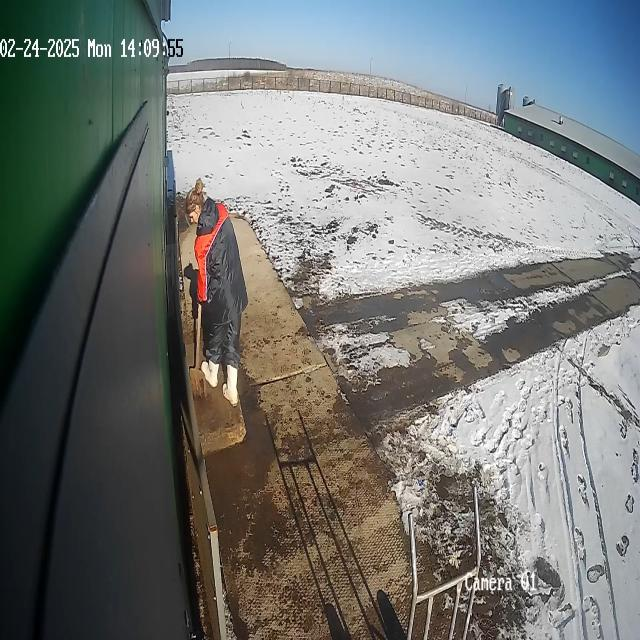Red uniform: (183, 177, 249, 409)
